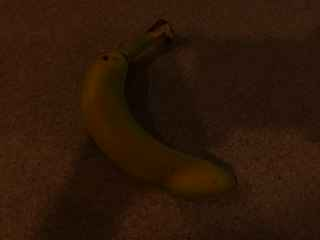banana: (75, 13, 240, 200)
